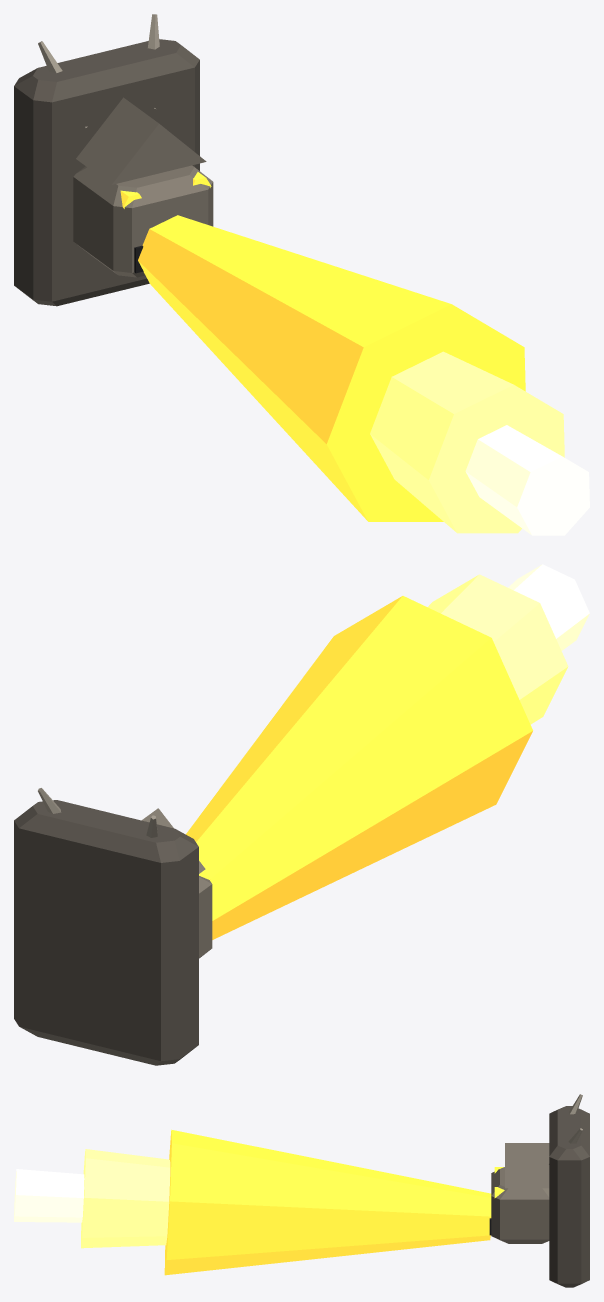
File: SM_Trap_Fuoco.glb
The picture shows the model from 3 angles, top to bottom: view 1: azimuth 30°, elevation 25°; view 2: azimuth 150°, elevation 25°; view 3: azimuth 270°, elevation 25°; orthographic projection. The views are drawn at different scales.
Visible parts, largest first — view 1: Fire_Flame, SM_Trap_Fuoco; view 2: Fire_Flame, SM_Trap_Fuoco; view 3: Fire_Flame, SM_Trap_Fuoco.
Part boxes in pixels (left/top/right/bottom): Fire_Flame: left=138, top=215, right=589, bottom=535; SM_Trap_Fuoco: left=14, top=14, right=213, bottom=306; Fire_Flame: left=186, top=564, right=589, bottom=939; SM_Trap_Fuoco: left=14, top=788, right=212, bottom=1065; Fire_Flame: left=14, top=1129, right=491, bottom=1275; SM_Trap_Fuoco: left=489, top=1094, right=589, bottom=1287.
Bounding box in the file's own units: 0.8364 × 1.02 × 3.39.
1 material, 1 textured.
